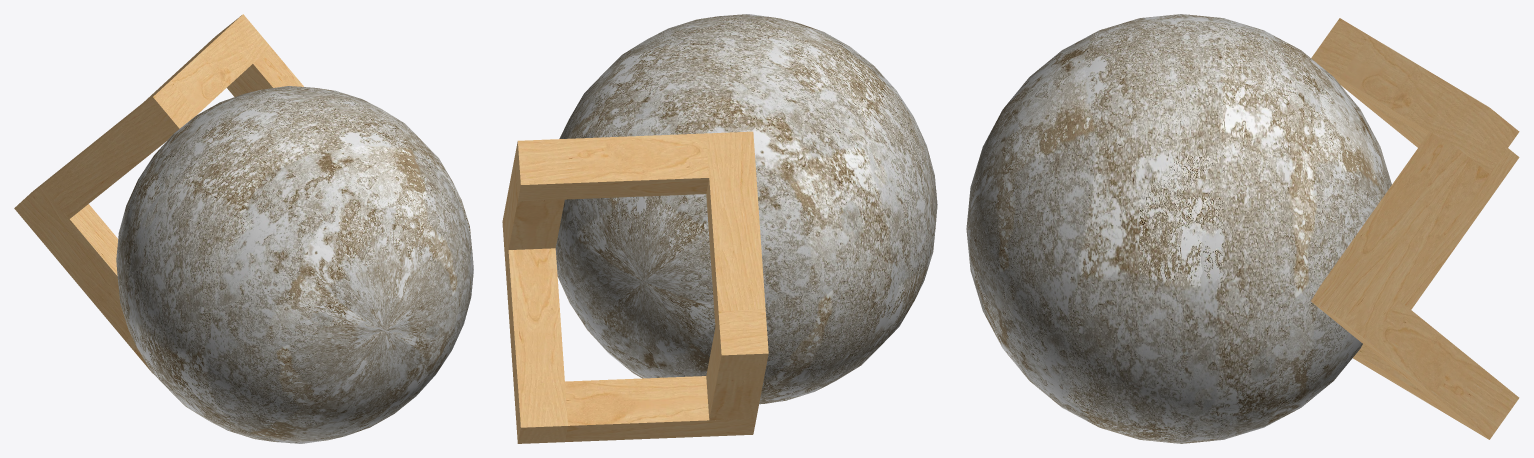
Rendered from decorative-stone-opt.glb.
3 renders of one model, left to right at view 1: azimuth 30°, elevation 25°; view 2: azimuth 150°, elevation 25°; view 3: azimuth 270°, elevation 25°, orthographic. The views are drawn at different scales.
Visible parts, largest first — view 1: Stone, Wood; view 2: Stone, Wood; view 3: Stone, Wood.
Part boxes in pixels (left/top/right/bottom): Stone: left=116, top=86, right=473, bottom=443; Wood: left=14, top=14, right=303, bottom=373; Stone: left=555, top=14, right=937, bottom=404; Wood: left=502, top=131, right=768, bottom=443; Stone: left=966, top=14, right=1391, bottom=443; Wood: left=1311, top=18, right=1519, bottom=439.
Size of the model in its own units: 0.1658 by 0.1658 by 0.2131.
2 materials, 2 textured.
